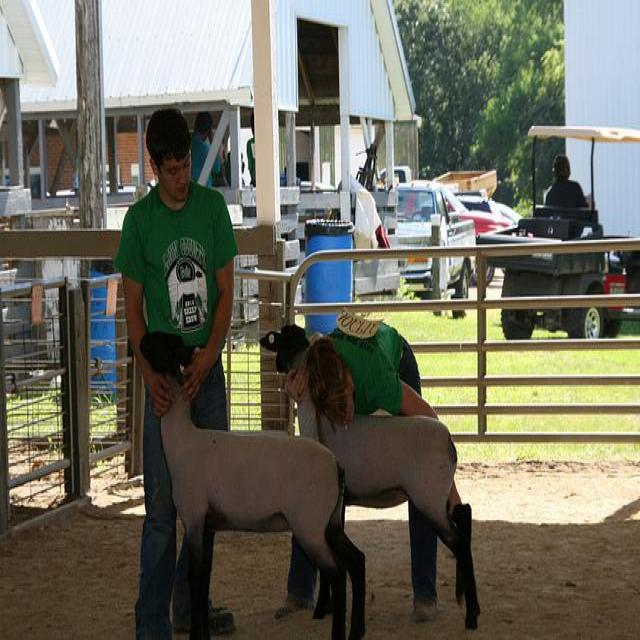Sheep: (139, 334, 366, 639), (259, 323, 480, 630)
